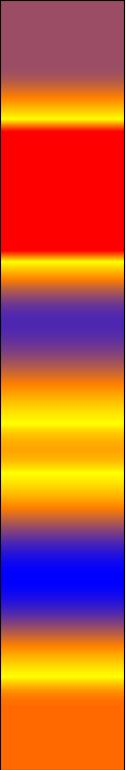Thermal Runaway: (10, 106, 118, 283), (5, 368, 120, 512), (10, 651, 118, 765)
critical: (4, 6, 116, 94), (10, 292, 118, 357), (8, 625, 116, 644)
safe: (3, 528, 121, 619)
